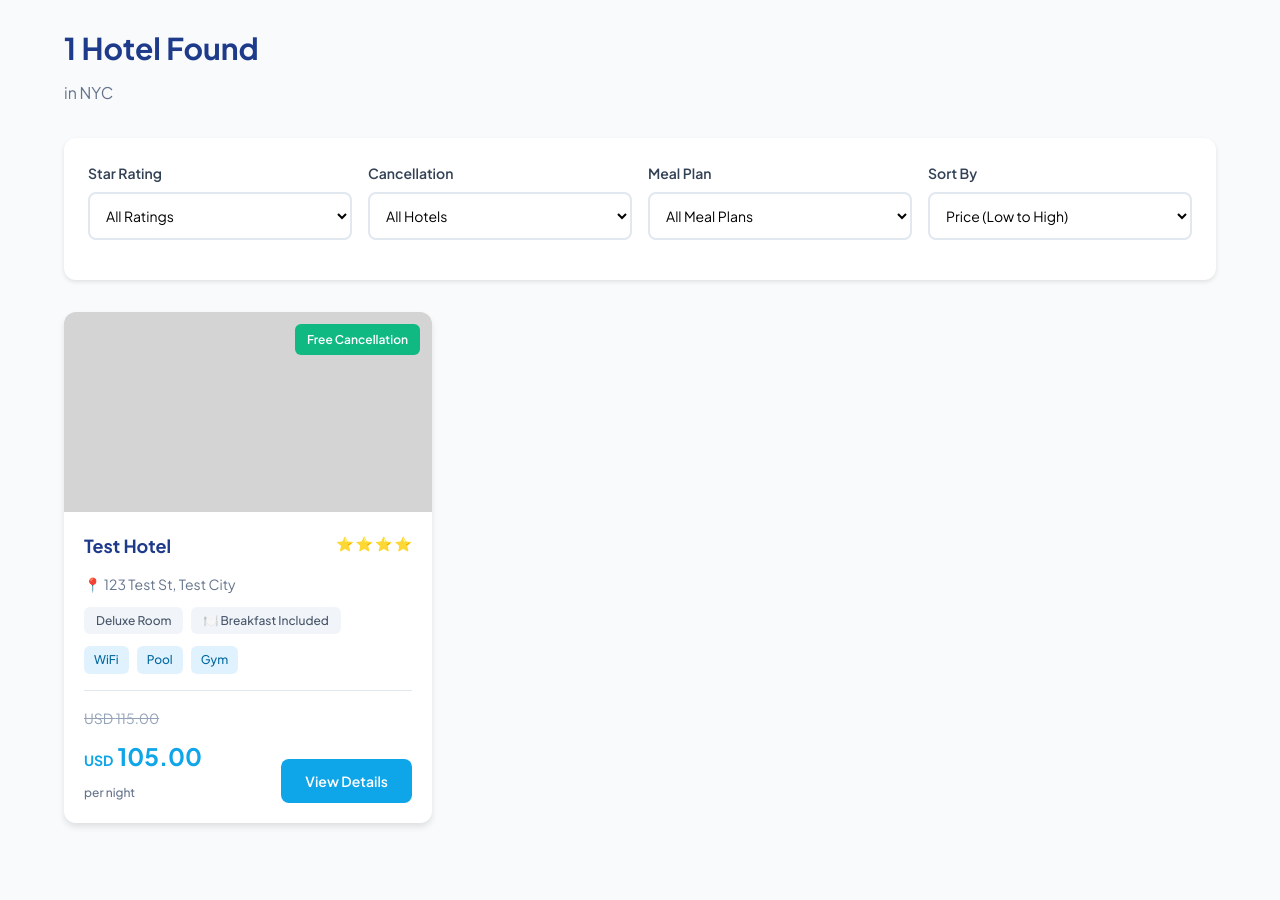
it: HotelSearchResults › shows clear filters button when filters are active
This screenshot has width=1280, height=900.
Check: the text "Clear All Filters" is not shown
Select "4 Stars" in the dropdown labelled "Star Rating" at (220, 216), box [88,192,352,240]
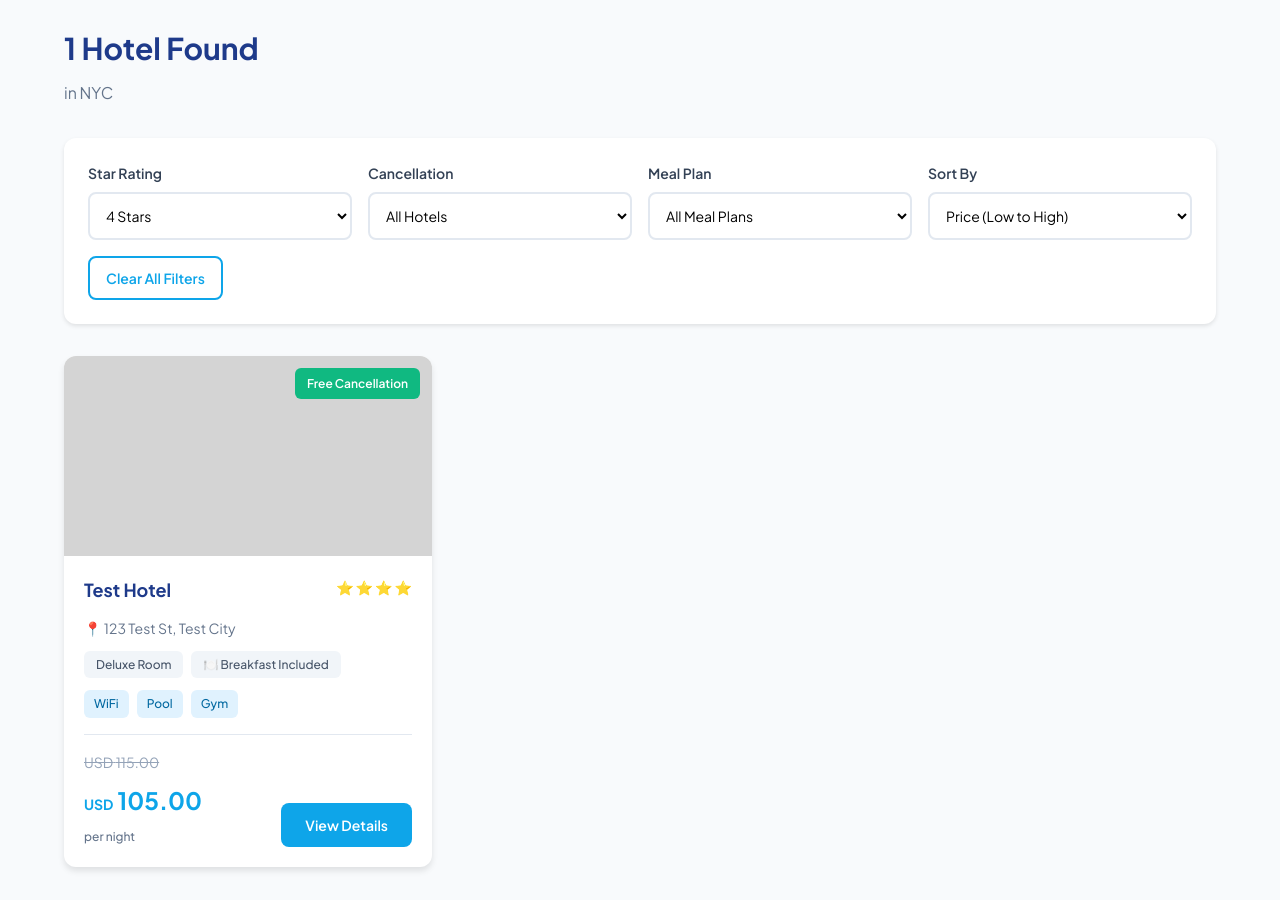
Check: the button "Clear All Filters" is shown, box [88,256,223,300]
